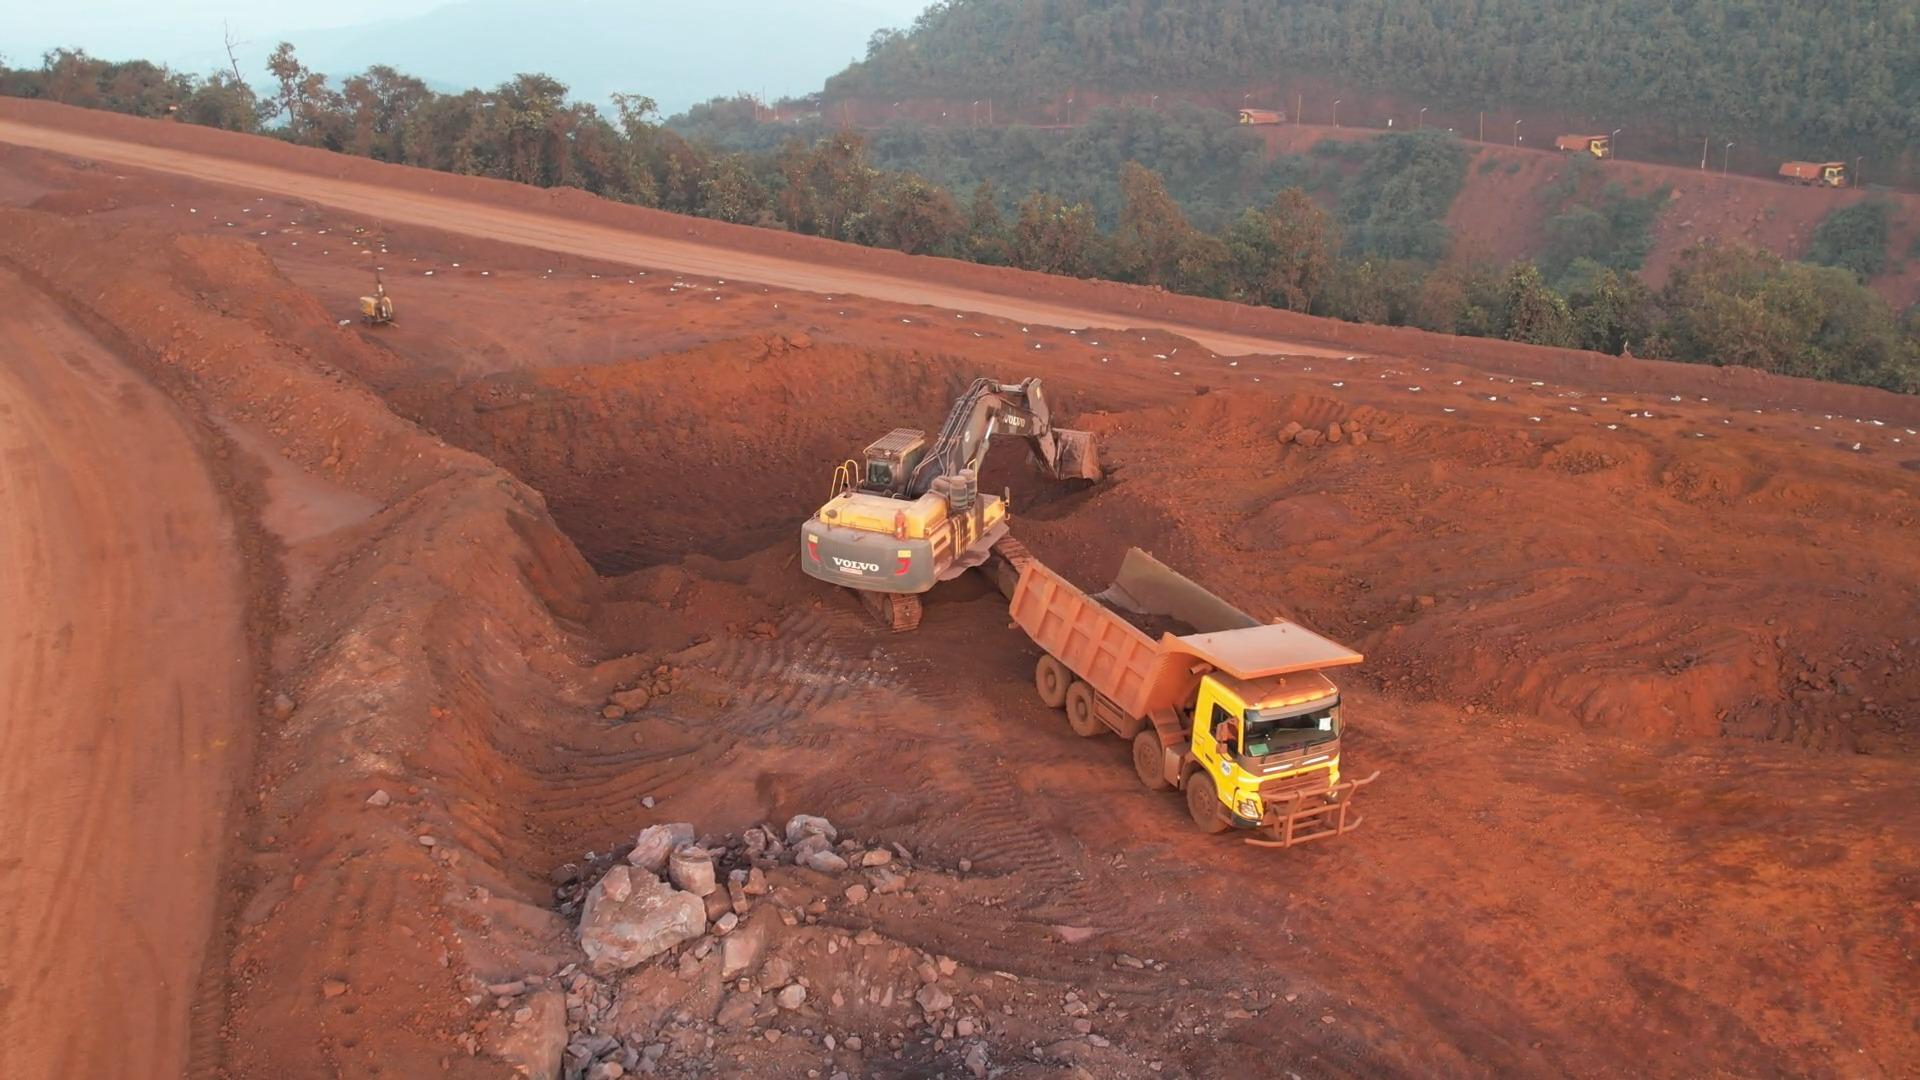excavator: (825, 379, 1087, 582)
